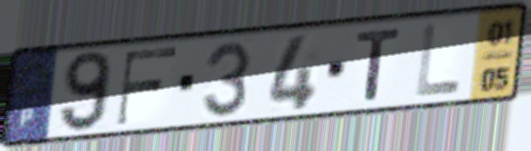3: (200, 38, 254, 119)
4: (265, 32, 318, 113)
9: (57, 49, 115, 134)
F: (113, 44, 181, 129)
L: (412, 21, 464, 100)
T: (353, 25, 405, 103)
